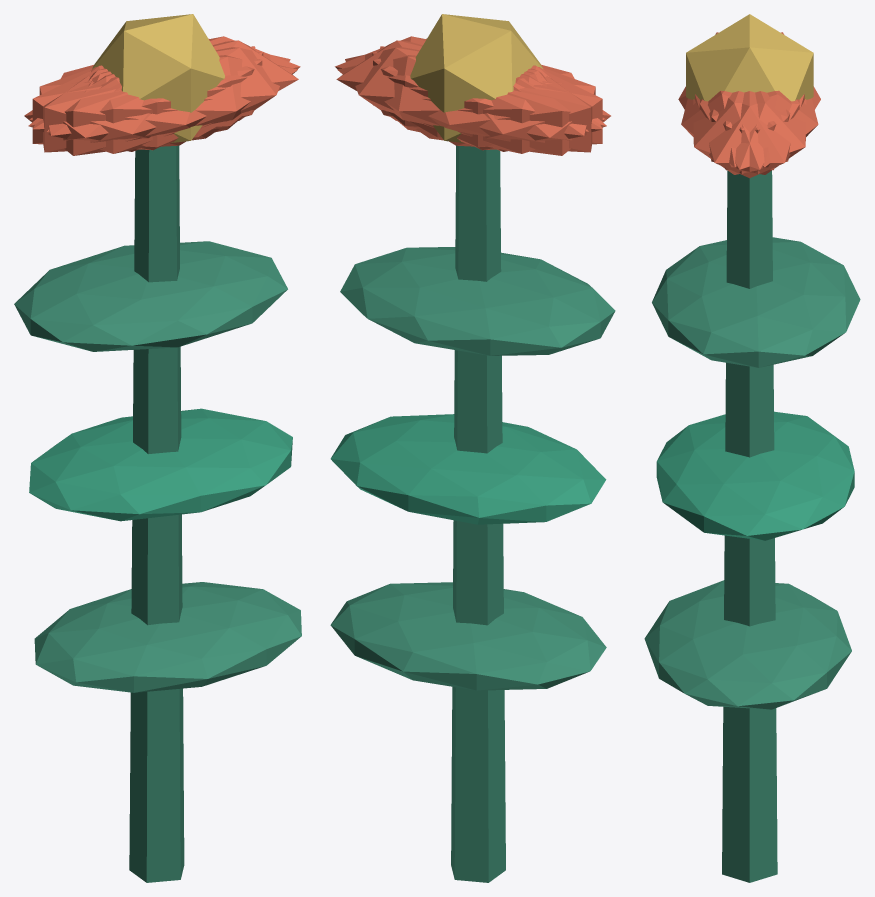
File: pterocymbium-tinctorium.glb
3 views of the same model, side by side, from view 1: azimuth 30°, elevation 25°; view 2: azimuth 150°, elevation 25°; view 3: azimuth 270°, elevation 25° (orthographic).
Visible parts, largest first — view 1: stem, leaf2, leaf0, leaf1, center, petal1, petal6, petal2, petal5, petal7, petal0, petal4 (+2 smaller); view 2: stem, leaf2, leaf1, leaf0, center, petal8, petal3, petal7, petal4, petal2, petal0, petal5 (+2 smaller); view 3: stem, leaf2, leaf0, leaf1, center, petal0, petal5, petal4, petal1, petal8.
Boxes of the visible parts, <box> form: stem: <box>129,145,184,882</box>; leaf2: <box>14,241,287,351</box>; leaf0: <box>34,582,301,692</box>; leaf1: <box>29,408,292,521</box>; center: <box>92,14,224,142</box>; petal1: <box>28,55,297,153</box>; petal6: <box>24,67,219,155</box>; petal2: <box>43,46,255,152</box>; petal5: <box>46,47,290,147</box>; petal7: <box>32,52,263,150</box>; petal0: <box>92,40,298,137</box>; petal4: <box>29,36,300,129</box>; stem: <box>451,145,505,882</box>; leaf2: <box>340,247,615,355</box>; leaf1: <box>330,414,606,524</box>; leaf0: <box>330,582,606,690</box>; center: <box>410,14,542,142</box>; petal8: <box>337,55,606,153</box>; petal3: <box>416,67,610,155</box>; petal7: <box>380,46,592,152</box>; petal4: <box>345,47,588,147</box>; petal2: <box>372,52,602,150</box>; petal0: <box>336,40,543,137</box>; petal5: <box>335,36,605,129</box>; stem: <box>722,170,777,882</box>; leaf2: <box>652,237,860,367</box>; leaf0: <box>644,580,851,709</box>; leaf1: <box>656,411,854,540</box>; center: <box>686,14,813,101</box>; petal0: <box>695,91,804,178</box>; petal5: <box>693,91,799,174</box>; petal4: <box>699,91,806,174</box>; petal1: <box>681,90,790,167</box>; petal8: <box>709,90,818,167</box>.
Size of the model in its own units: 0.1452 by 0.4438 by 0.1035.
